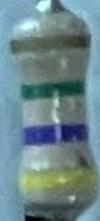Blue: (26, 121, 90, 150)
Green: (19, 77, 87, 104)
Side-Silver: (12, 34, 93, 58)
Yellow: (19, 164, 97, 198)
